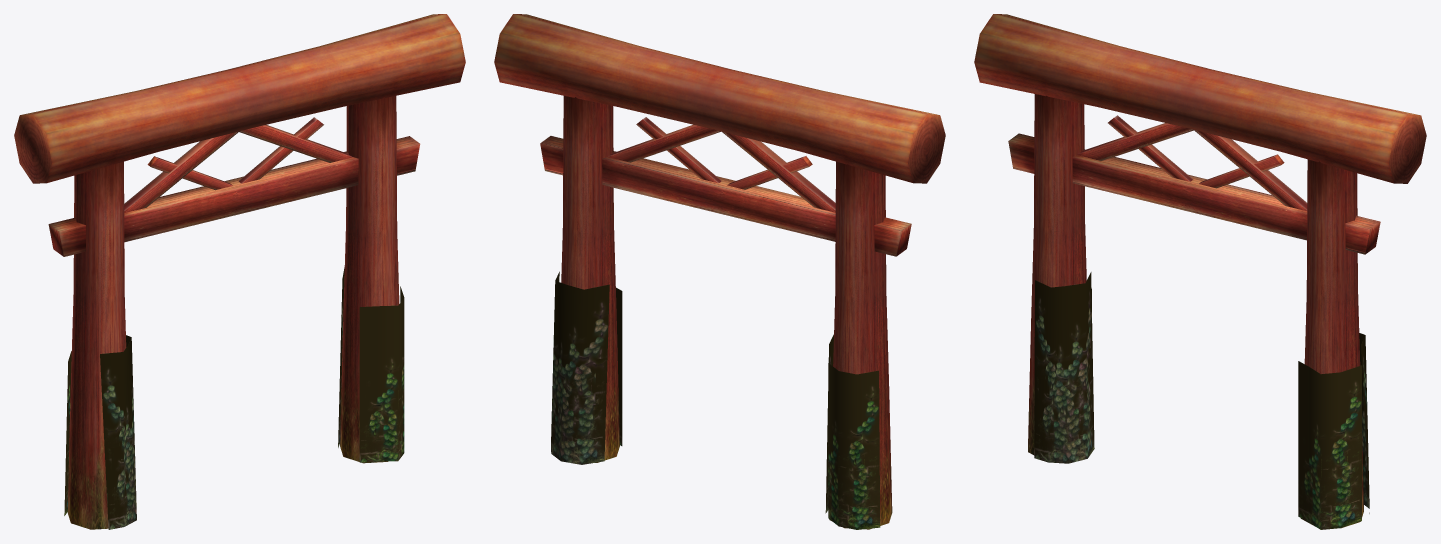
The model's file is a_SWFpillar01.glb.
3 renders of one model, left to right at view 1: azimuth 30°, elevation 25°; view 2: azimuth 150°, elevation 25°; view 3: azimuth 330°, elevation 25°, orthographic.
Visible parts, largest first — view 1: a_SWFpillar01; view 2: a_SWFpillar01; view 3: a_SWFpillar01.
Boxes of the visible parts, bbox=[...] form: a_SWFpillar01: bbox=[14, 14, 465, 529]; a_SWFpillar01: bbox=[494, 14, 945, 529]; a_SWFpillar01: bbox=[974, 14, 1426, 529].
Bounding box in the file's own units: 5.57 × 5.37 × 0.9039.
Materials: 3 (3 with a texture image).
